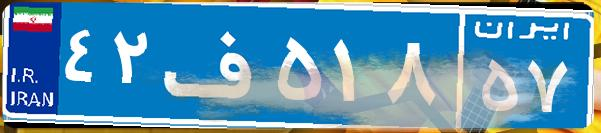1: (330, 28, 385, 110)
2: (110, 28, 158, 105)
4: (57, 26, 110, 107)
5: (273, 28, 330, 110), (475, 38, 525, 113)
7: (525, 38, 570, 115)
8: (385, 28, 445, 110)
ف: (158, 15, 273, 115)
